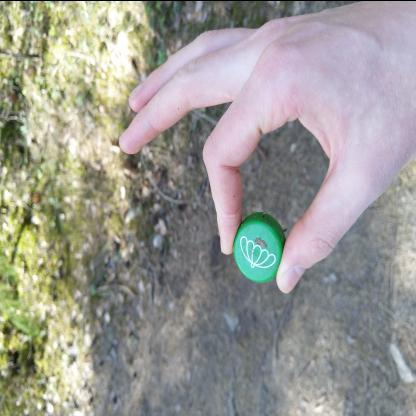plastik: (232, 209, 288, 283)
